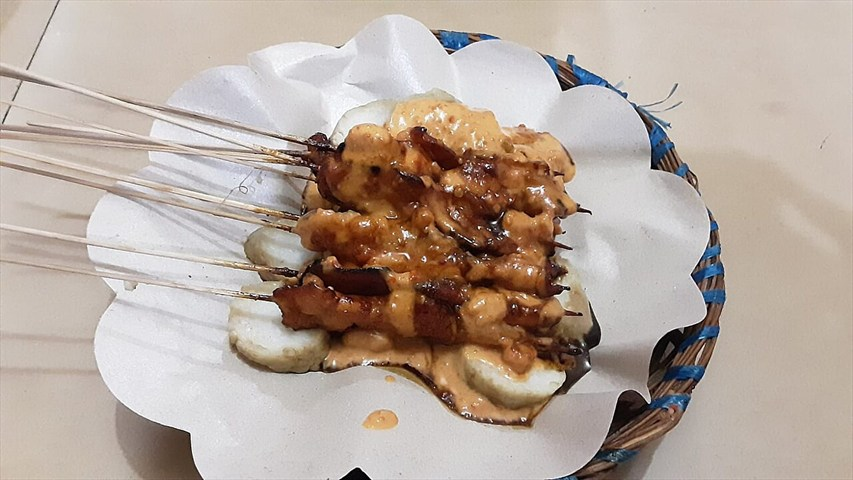Sate Ayam: (247, 115, 712, 429)
